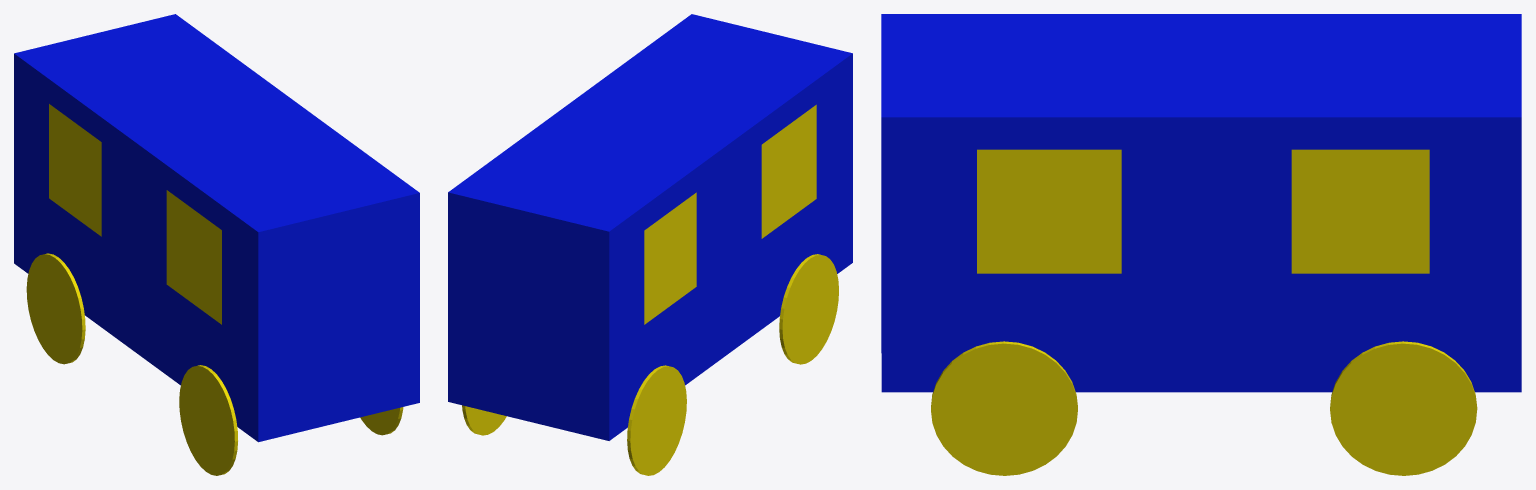
File: traincart.fbx
3 renders of one model, left to right at view 1: azimuth 30°, elevation 25°; view 2: azimuth 150°, elevation 25°; view 3: azimuth 270°, elevation 25°, orthographic. The views are drawn at different scales.
Visible parts, largest first — view 1: Cylinder.001; view 2: Cylinder.001; view 3: Cylinder.001.
Boxes of the visible parts, bbox=[...] form: Cylinder.001: bbox=[14, 14, 419, 475]; Cylinder.001: bbox=[448, 14, 852, 475]; Cylinder.001: bbox=[881, 14, 1521, 475].
Bounding box in the file's own units: 211 × 323 × 524.
